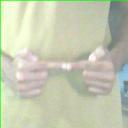hand: (8, 49, 67, 99), (67, 45, 115, 95)
